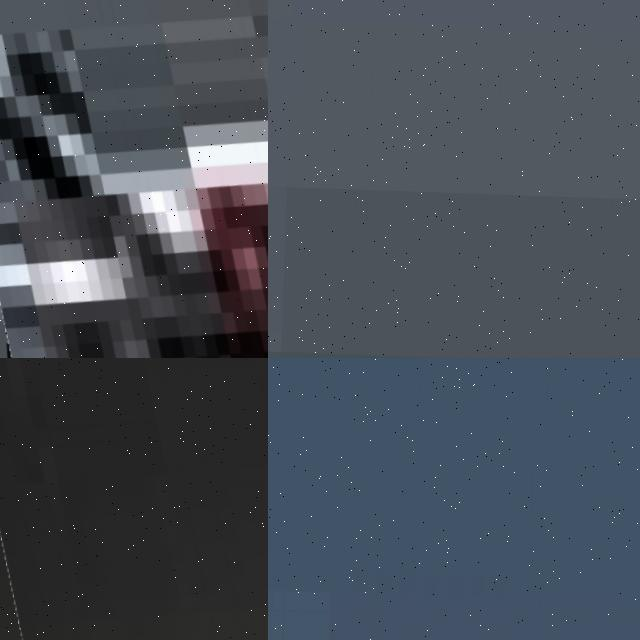0: (0, 0, 268, 358)
drone: (0, 358, 268, 640)
